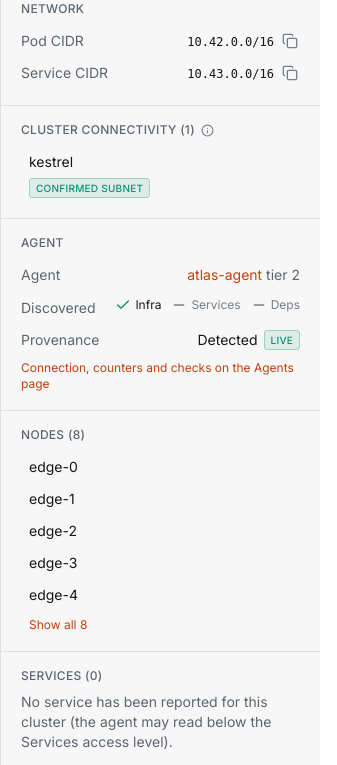
Test: Inspector · cluster layout › a long node list shows the first five, and the rest on request
The width and height of the screenshot is (337, 765).
(page scrolled)
Expected: the text "Nodes (8)" is shown, [21,427,85,442]
Expected: the text "edge-4" is shown, [29,586,78,603]
What coordinates should you click on to do the following:
click the button "Show all 8"
I would click on:
 (58, 625)
Its box is [21,617,95,633].
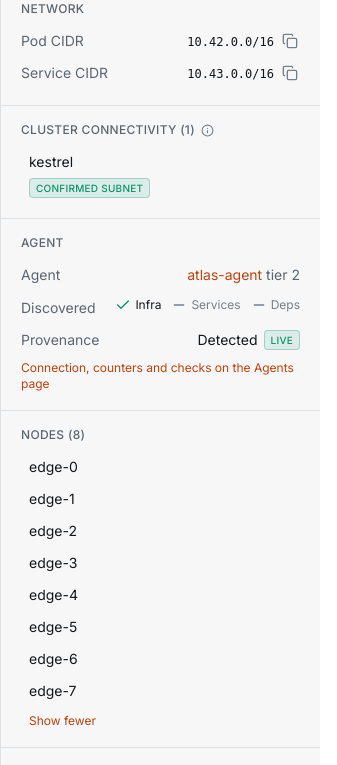
Result: the text "edge-7" is shown at [29,682,76,699]
What coordinates should you click on to do the following:
click the button "Show fewer"
I would click on:
 (62, 721)
Its box is [21,713,104,729].
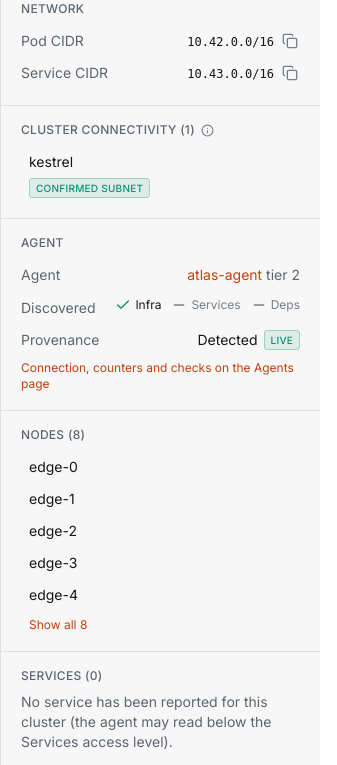
Result: the button "edge-7" is gone
